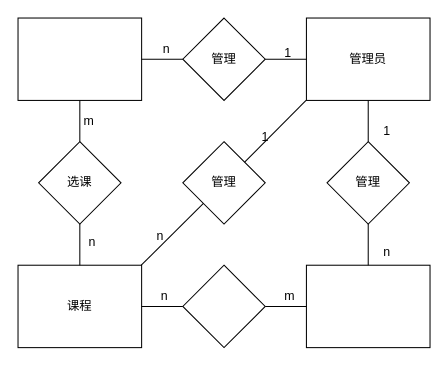
Image size: 448x366. Some labels were removed from this diagram. Here are the shapes that lost their labels. From the top down, the centre of each, then its label:
At point (79, 58): "学生".
At point (223, 306): "授课".
At point (367, 306): "老师".
